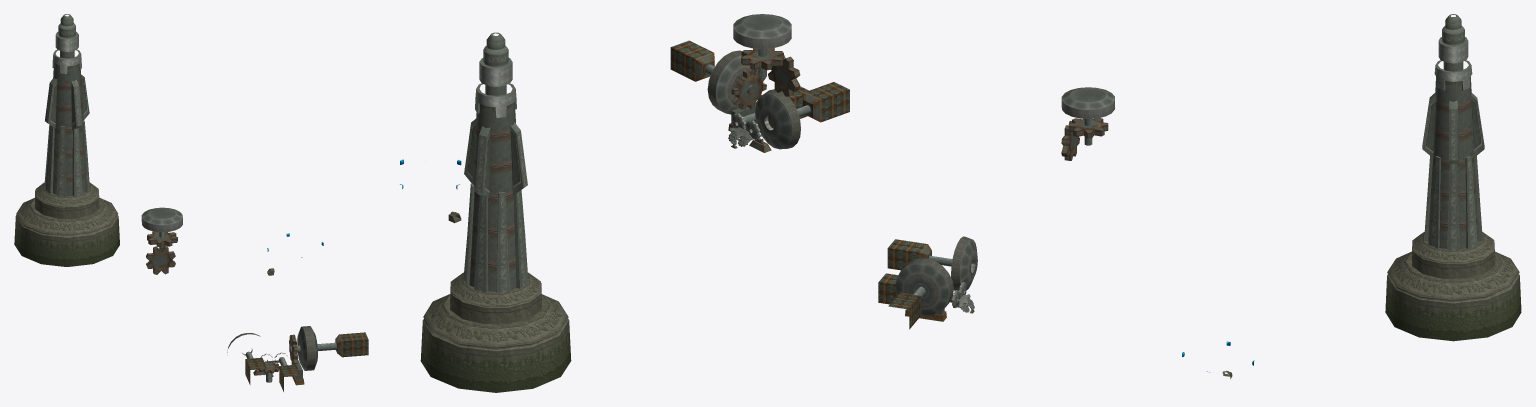
Rendered from hj2-mincan-mesh.glb.
3 renders of one model, left to right at view 1: azimuth 30°, elevation 25°; view 2: azimuth 150°, elevation 25°; view 3: azimuth 270°, elevation 25°, orthographic. The views are drawn at different scales.
Parts seen in each view (by area): view 1: hj2-mincan-props; view 2: hj2-mincan-props; view 3: hj2-mincan-props.
Boxes of the visible parts, left/top/right/bottom form: hj2-mincan-props: left=14, top=14, right=368, bottom=391; hj2-mincan-props: left=400, top=14, right=849, bottom=392; hj2-mincan-props: left=878, top=14, right=1521, bottom=378.
Bounding box in the file's own units: 83.2 × 79.09 × 155.
34 materials, 34 textured.
